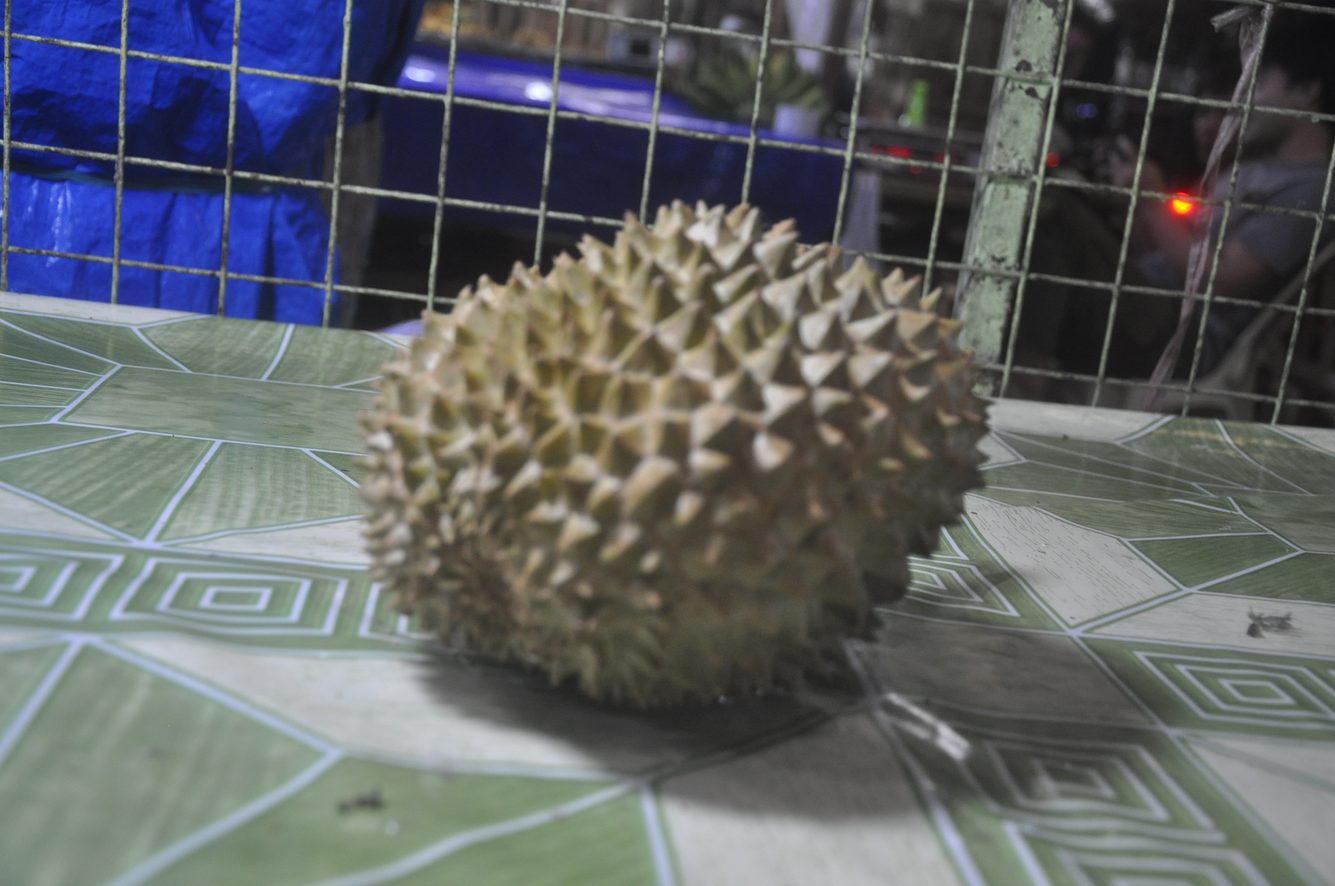mature: (362, 203, 986, 707)
